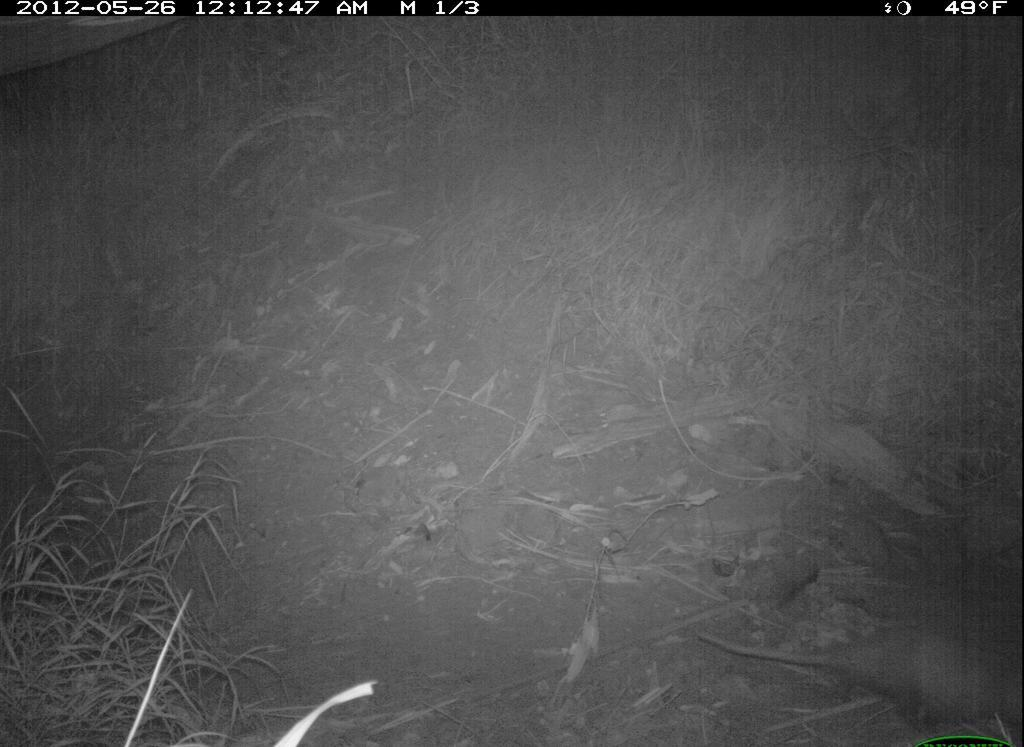opossum: (625, 552, 1022, 740)
